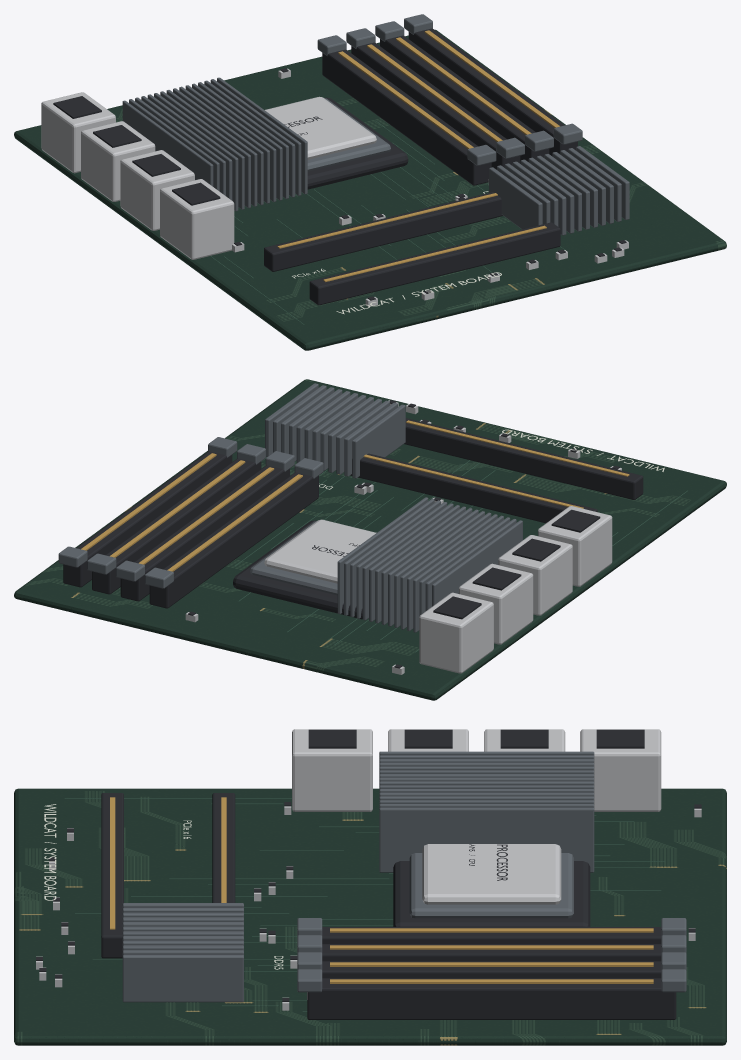
The model's file is service-board.glb.
3 renders of one model, top to bottom at view 1: azimuth 30°, elevation 25°; view 2: azimuth 150°, elevation 25°; view 3: azimuth 270°, elevation 25°, orthographic. The views are drawn at different scales.
Parts seen in each view (by area): view 1: Text.004; view 2: Text.004; view 3: Text.004.
Boxes of the visible parts, x1,y1,x2,y2 form: Text.004: (14, 14, 726, 350); Text.004: (14, 379, 726, 700); Text.004: (14, 729, 726, 1045).
Bounding box in the file's own units: 2.35 × 0.341 × 2.82.
7 materials, 1 textured.
